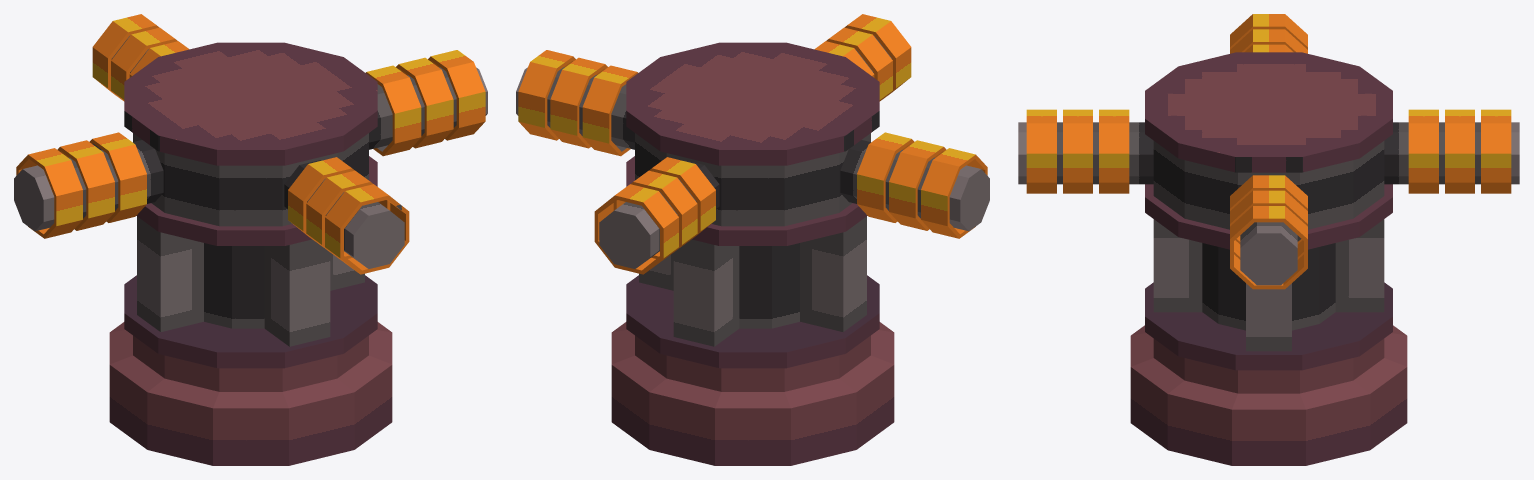
The model's file is MetalBooster.glb.
3 renders of one model, left to right at view 1: azimuth 30°, elevation 25°; view 2: azimuth 150°, elevation 25°; view 3: azimuth 270°, elevation 25°, orthographic. The views are drawn at different scales.
Visible parts, largest first — view 1: structure, cylinder, cuboid; view 2: structure, cylinder, cuboid; view 3: structure, cylinder, cuboid.
Boxes of the visible parts, <box> form: structure: <box>109,42,392,465</box>; cylinder: <box>14,14,487,274</box>; cuboid: <box>137,216,364,346</box>; structure: <box>611,42,894,465</box>; cylinder: <box>516,14,989,274</box>; cuboid: <box>639,216,866,346</box>; structure: <box>1130,52,1407,465</box>; cylinder: <box>1018,14,1519,289</box>; cuboid: <box>1153,219,1384,351</box>.
Size of the model in its own units: 1.81 by 1.21 by 1.81.
1 material, 1 textured.
